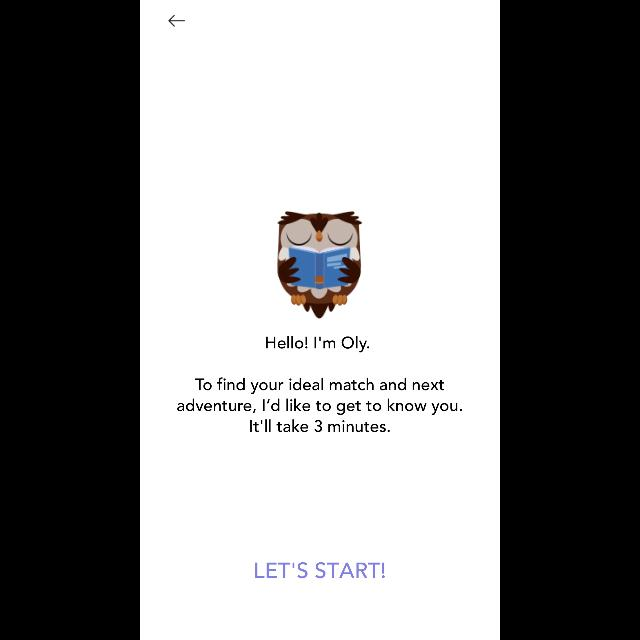icon: (168, 15, 186, 27)
image: (278, 212, 362, 318)
text: (178, 378, 462, 432), (255, 562, 385, 578), (266, 336, 370, 352)
